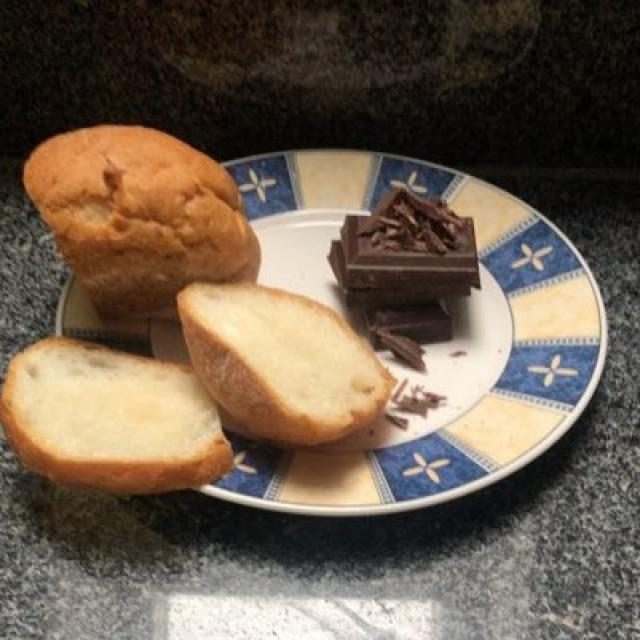bread-white: (23, 123, 391, 509)
dark-chocolate: (331, 186, 478, 314)
